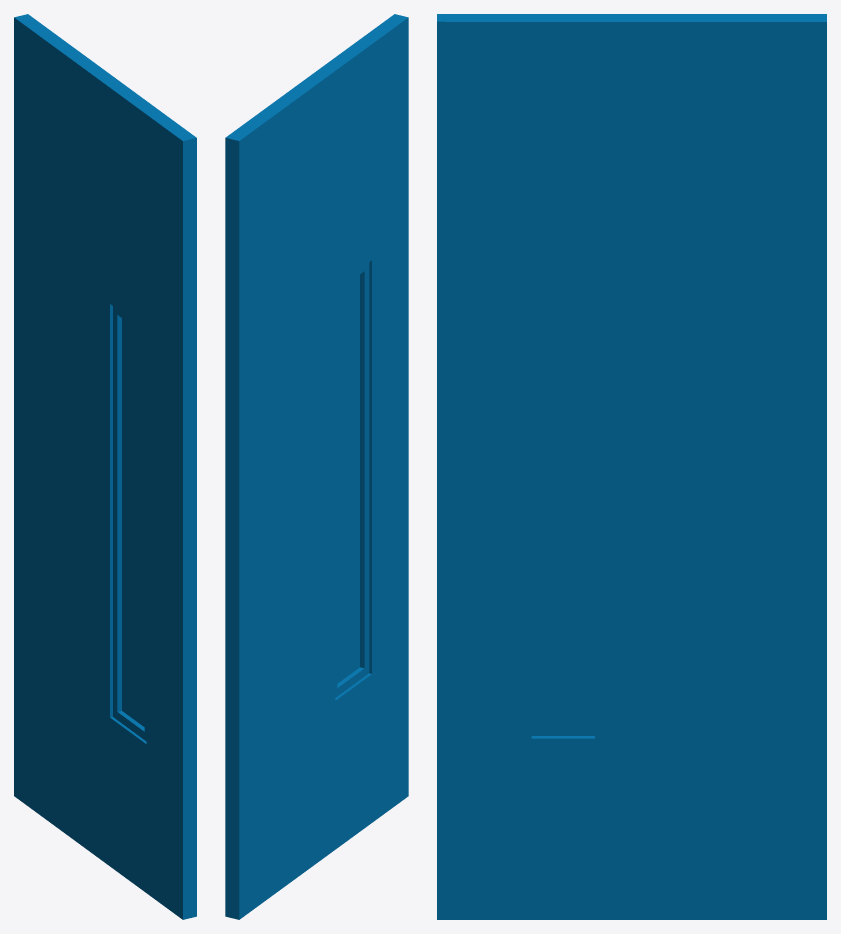
The model's file is MainDoor1Transformed1.fbx.
3 renders of one model, left to right at view 1: azimuth 30°, elevation 25°; view 2: azimuth 150°, elevation 25°; view 3: azimuth 270°, elevation 25°, orthographic. The views are drawn at different scales.
Visible parts, largest first — view 1: HB_Door_Concept_Int_Sgl_Solid_VP_- DT-03:1010x2410mm RB DT 0; view 2: HB_Door_Concept_Int_Sgl_Solid_VP_- DT-03:1010x2410mm RB DT 0; view 3: HB_Door_Concept_Int_Sgl_Solid_VP_- DT-03:1010x2410mm RB DT 0.
Part boxes in pixels (x1,y1,x2,y2): HB_Door_Concept_Int_Sgl_Solid_VP_- DT-03:1010x2410mm RB DT 0: (14, 14, 196, 919); HB_Door_Concept_Int_Sgl_Solid_VP_- DT-03:1010x2410mm RB DT 0: (225, 14, 408, 919); HB_Door_Concept_Int_Sgl_Solid_VP_- DT-03:1010x2410mm RB DT 0: (437, 14, 826, 919).
Bounding box in the file's own units: 0.0446 × 2.35 × 0.926.
